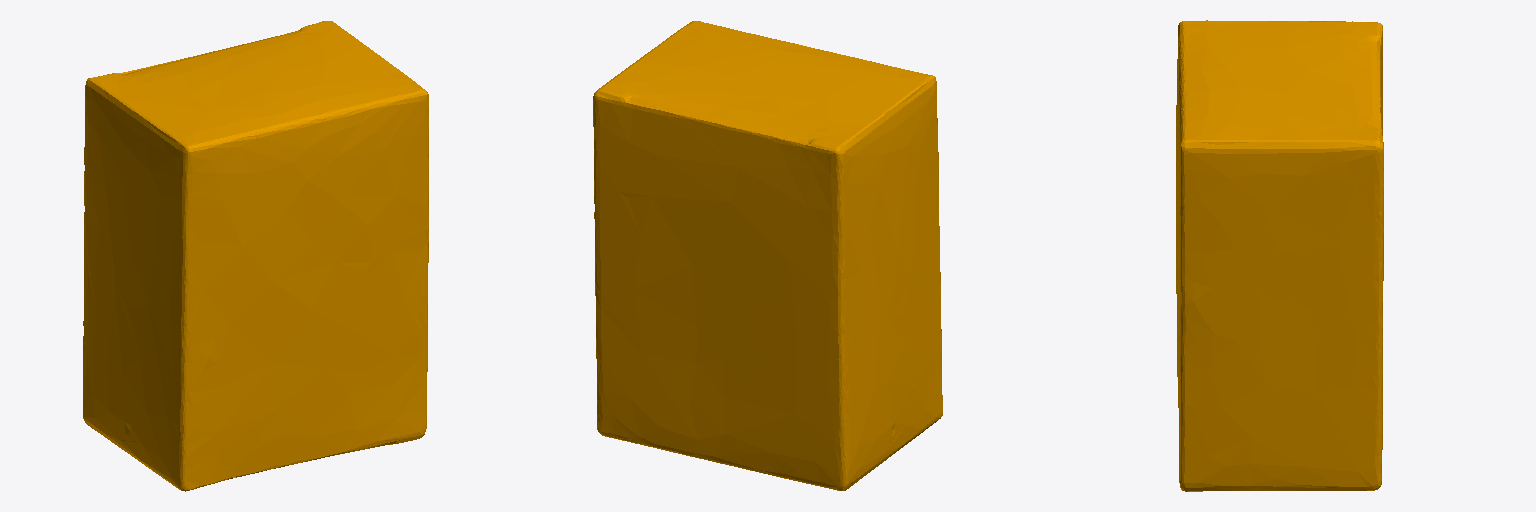
The robot description file, URDF, robot "Perricone_MD_Vitamin_C_Ester_Serum":
<?xml version="1.0" ?>
<robot name="Perricone_MD_Vitamin_C_Ester_Serum">
  <link name="link_0">
    <inertial>
      <origin xyz="0 0 0" rpy="0 0 0"/>
      <mass value="1.0"/>
      <inertia ixx="0.1" ixy="0.0" ixz="0.0" iyy="0.1" iyz="0.0" izz="0.1"/>
    </inertial>
    <visual name="visual">
      <origin xyz="0 0 0" rpy="0 0 0"/>
      <geometry>
        <mesh filename="meshes/model.obj"/>
      </geometry>
    </visual>
    <collision name="collision_0">
      <origin xyz="0 0 0" rpy="0 0 0"/>
      <geometry>
        <mesh filename="meshes/model.obj"/>
      </geometry>
    </collision>
  </link>
</robot>

--- Facts derived from the render (not from the file) ---
Views: 3 orthographic renders of the robot side by side, from view 1: azimuth 30°, elevation 25°; view 2: azimuth 150°, elevation 25°; view 3: azimuth 270°, elevation 25°.
Model Perricone_MD_Vitamin_C_Ester_Serum with 1 links and 0 joints (none), rooted at link_0, posed every joint at zero.
Links seen in each view (by area): view 1: link_0; view 2: link_0; view 3: link_0.
Boxes of the visible links, box(x1,y1,x2,y2) form: link_0: box(83, 21, 428, 491); link_0: box(593, 21, 942, 490); link_0: box(1176, 20, 1383, 491).
Size in the robot's own frame: 0.0802 by 0.056 by 0.1053 metres.
Meshes: 1 distinct files referenced, 1 mesh visuals loaded (1 OBJ).